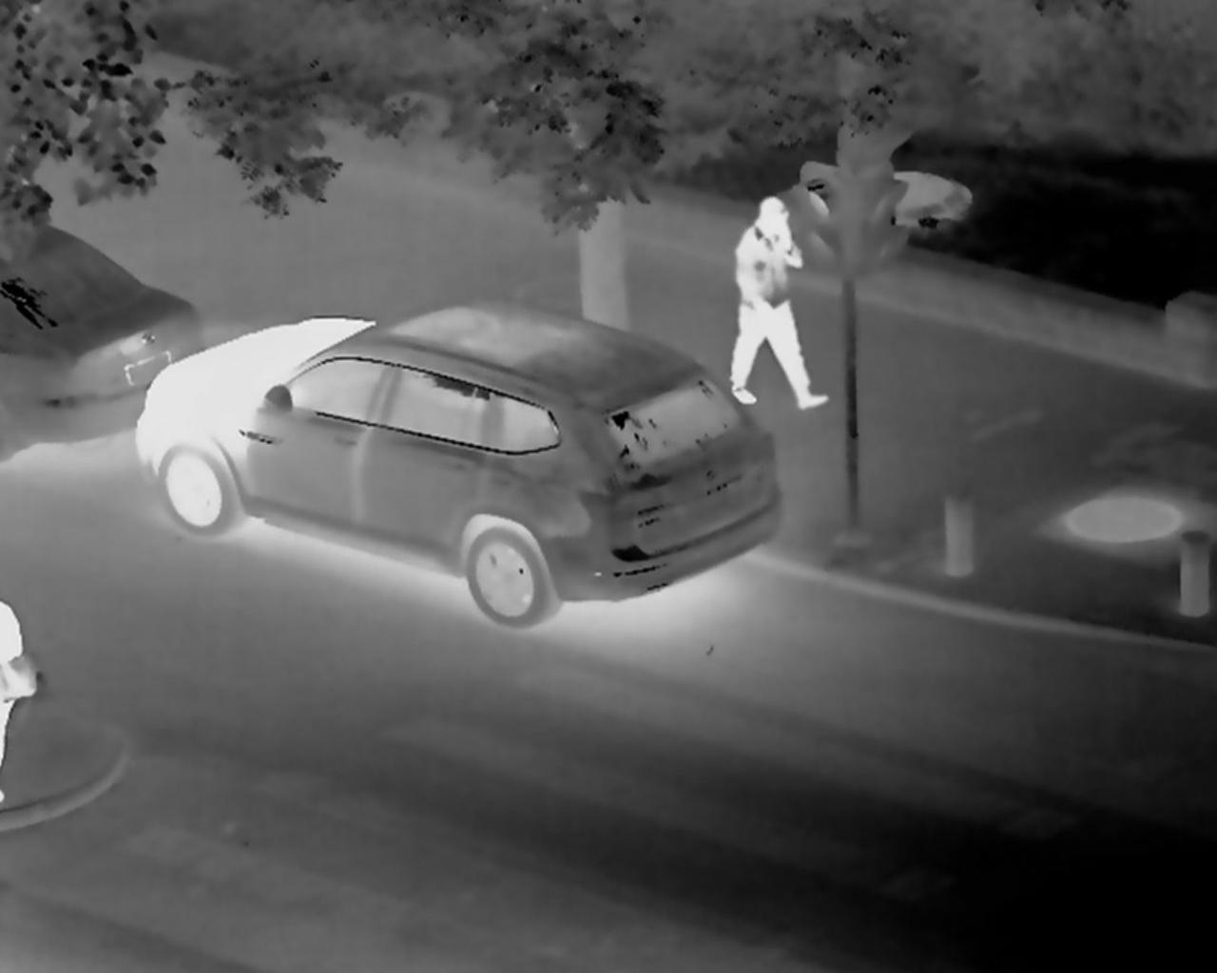person: (714, 197, 843, 445)
